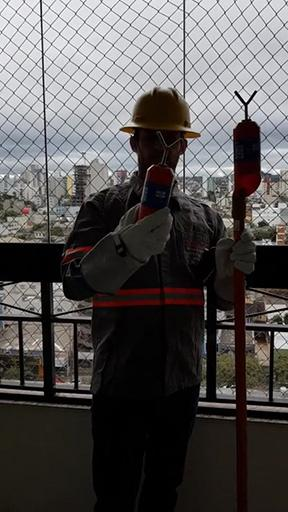Detector_Tensao_Contato: (139, 131, 183, 228), (232, 88, 262, 196)
Vara_Manobra: (230, 193, 250, 512)
